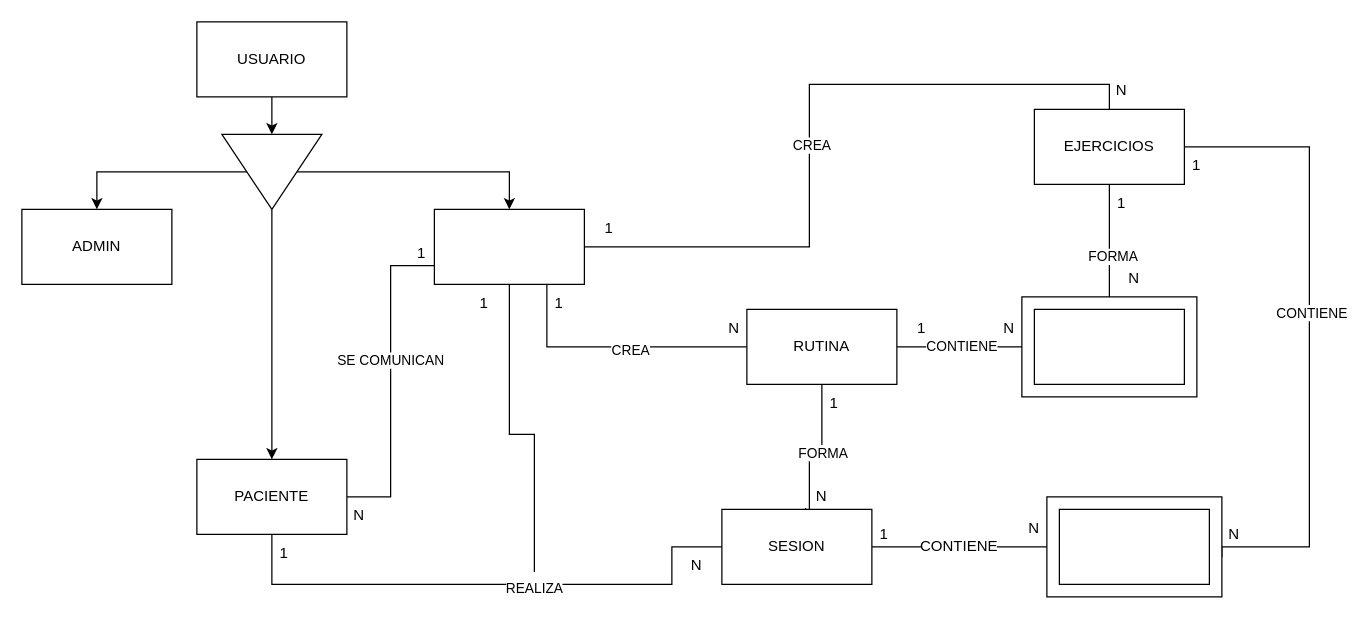
Some shapes in this 1369 by 619 pixel diagram are drawn without their labels. Here are the shapes that lost their labels. From the top down, the centre of each, then its label:
At (x=508, y=246): "TERAPEUTA".
At (x=1108, y=346): "FICHA EJERCICIOS".
At (x=1133, y=546): "SESION EJERCICIOS".
